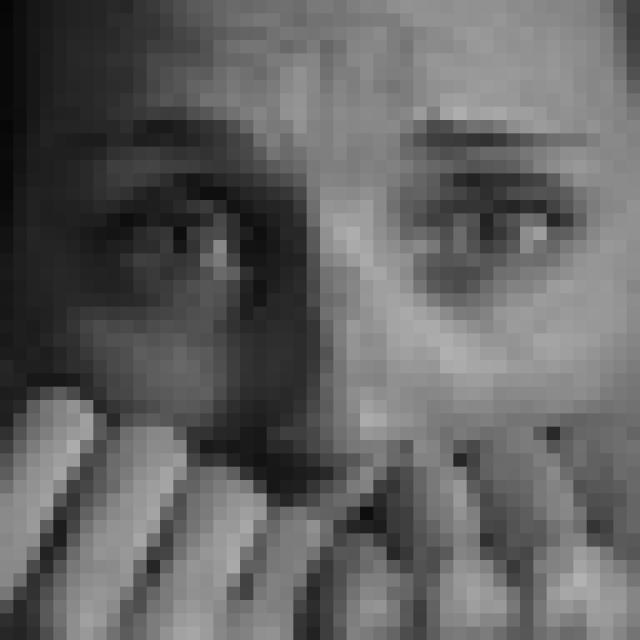fear: (62, 106, 596, 591)
